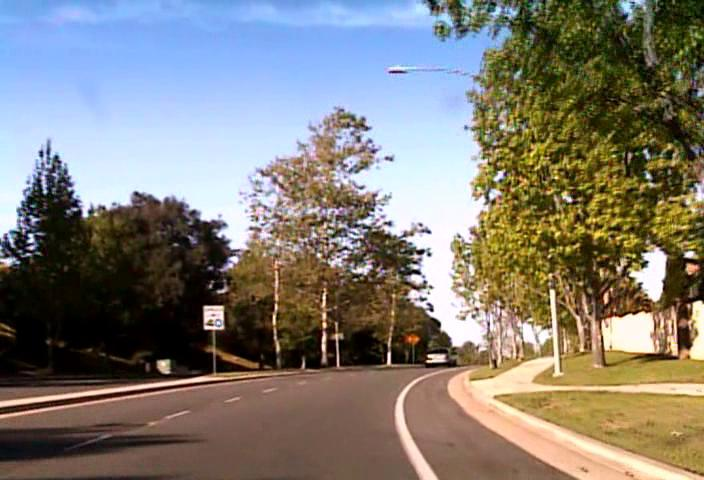speedLimit40: (203, 304, 224, 330)
